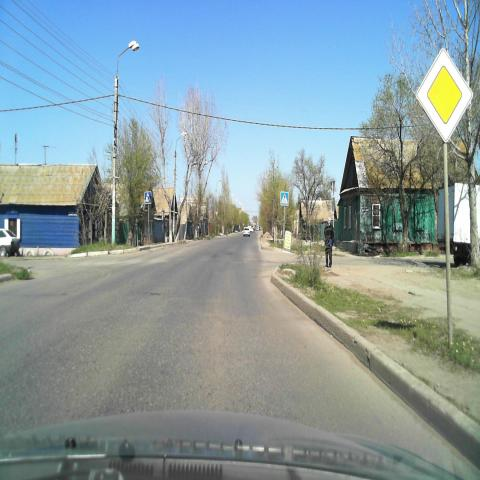2_1: (416, 54, 474, 142)
